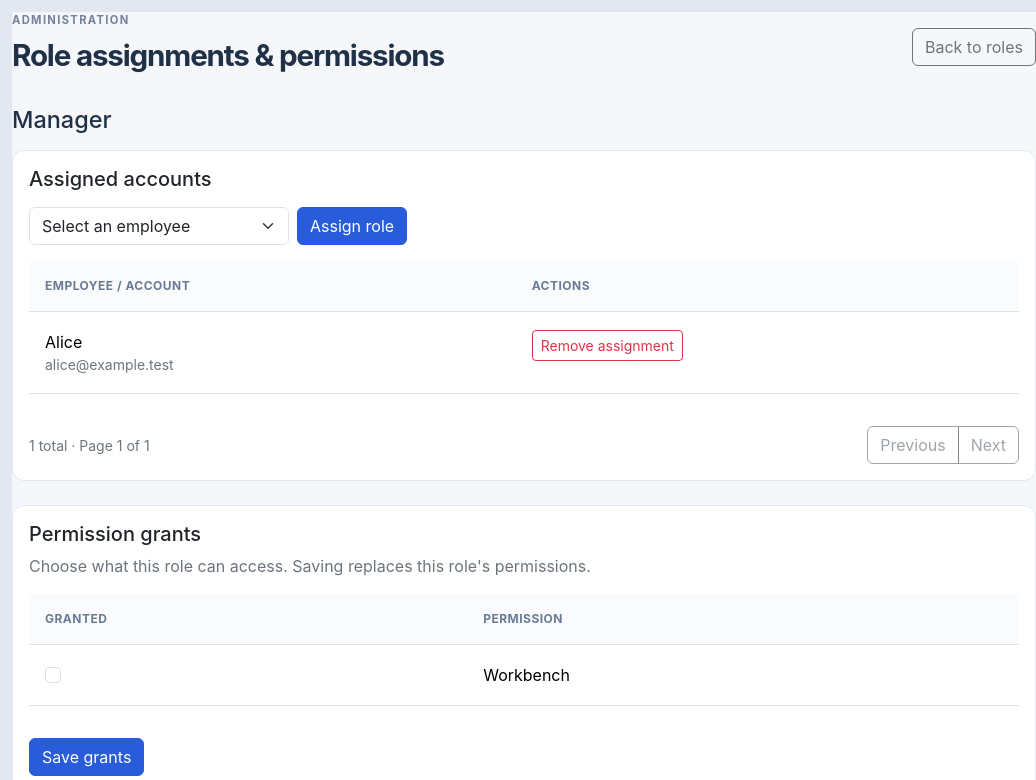
Test: assigns a role using employee ID
Select "Alice — alice@example.test" in the dropdown: (159, 226) 29,207 -> 289,245
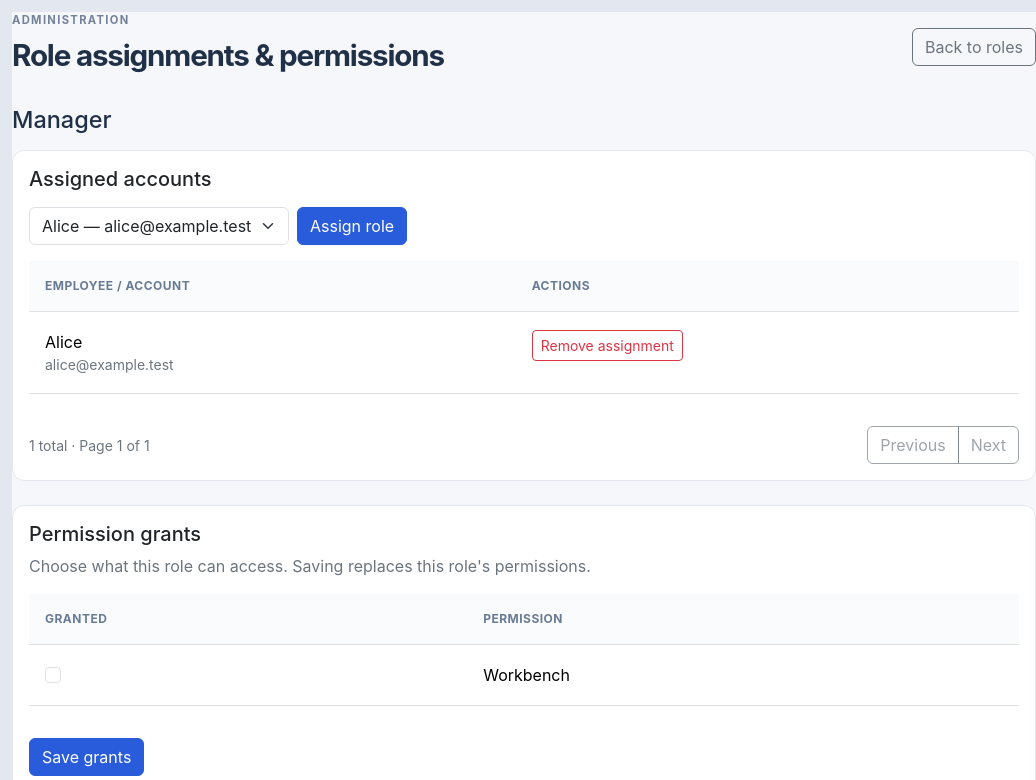
Click the button "Assign role": (352, 226) 297,207 -> 407,245
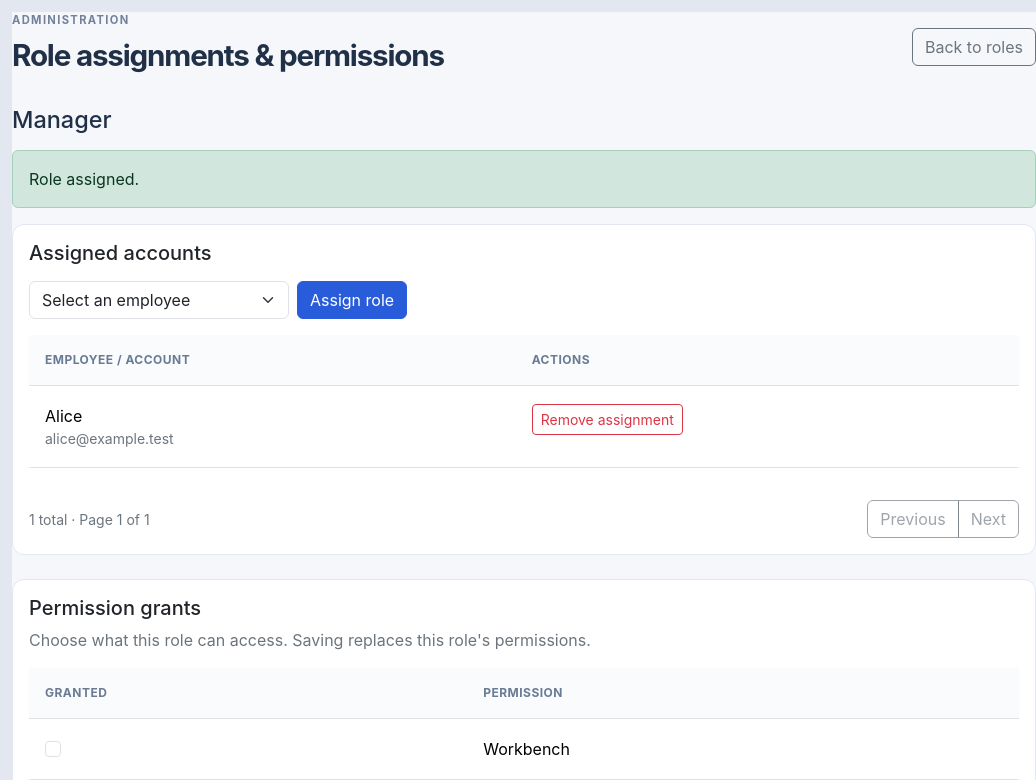
Now the text "Role assigned." is shown, box 12,150 -> 1035,208
